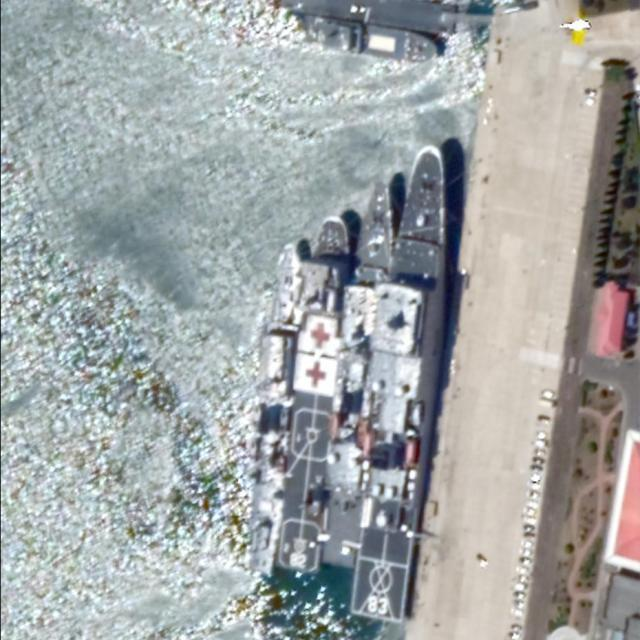Auxiliary Ships: (275, 212, 353, 571)
Landing: (334, 137, 466, 624), (299, 14, 440, 67)
